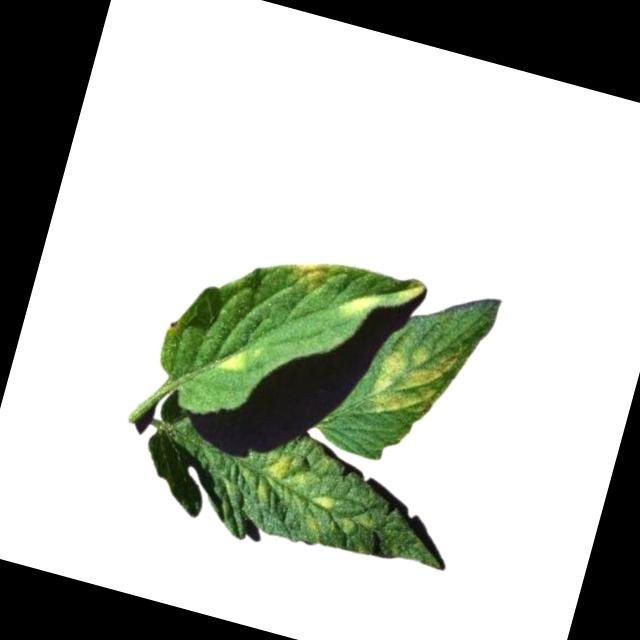Leaf_Mold: (246, 448, 386, 548), (368, 332, 462, 427), (282, 253, 330, 297), (215, 340, 252, 377), (336, 285, 372, 321)
